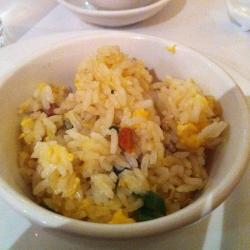rice: (20, 61, 216, 225)
